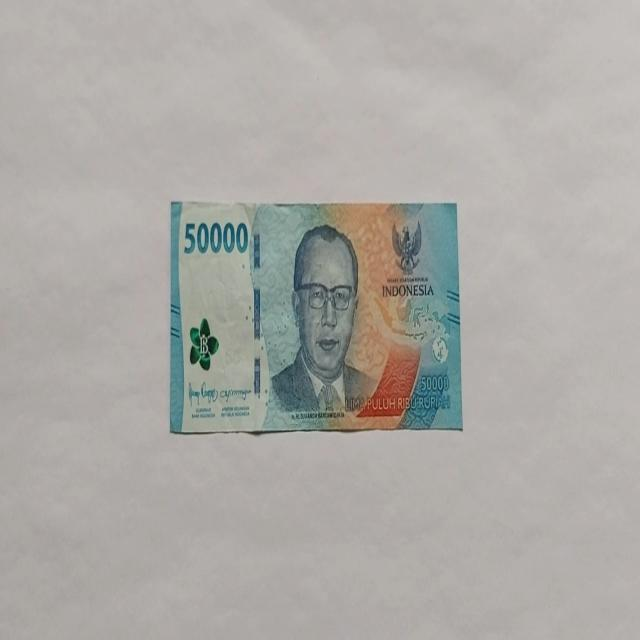lima puluh ribu rupiah: (169, 198, 463, 436), (266, 222, 376, 420)
